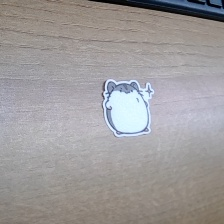mouse: (102, 79, 155, 138)
